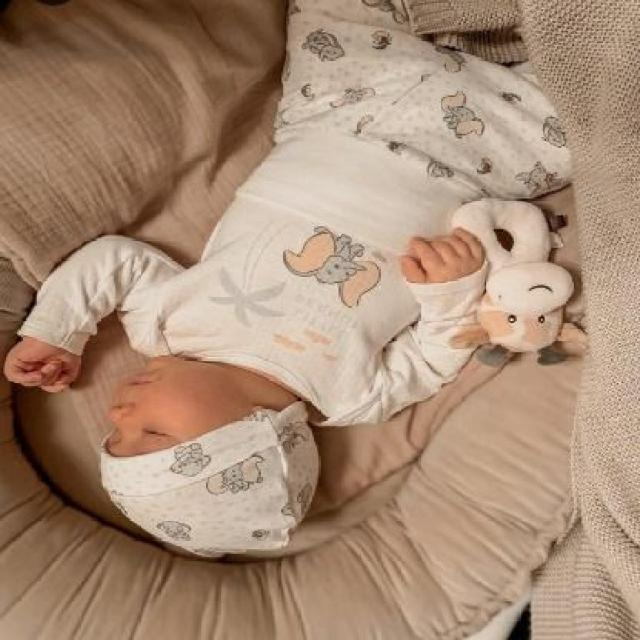baby: (1, 5, 577, 561)
